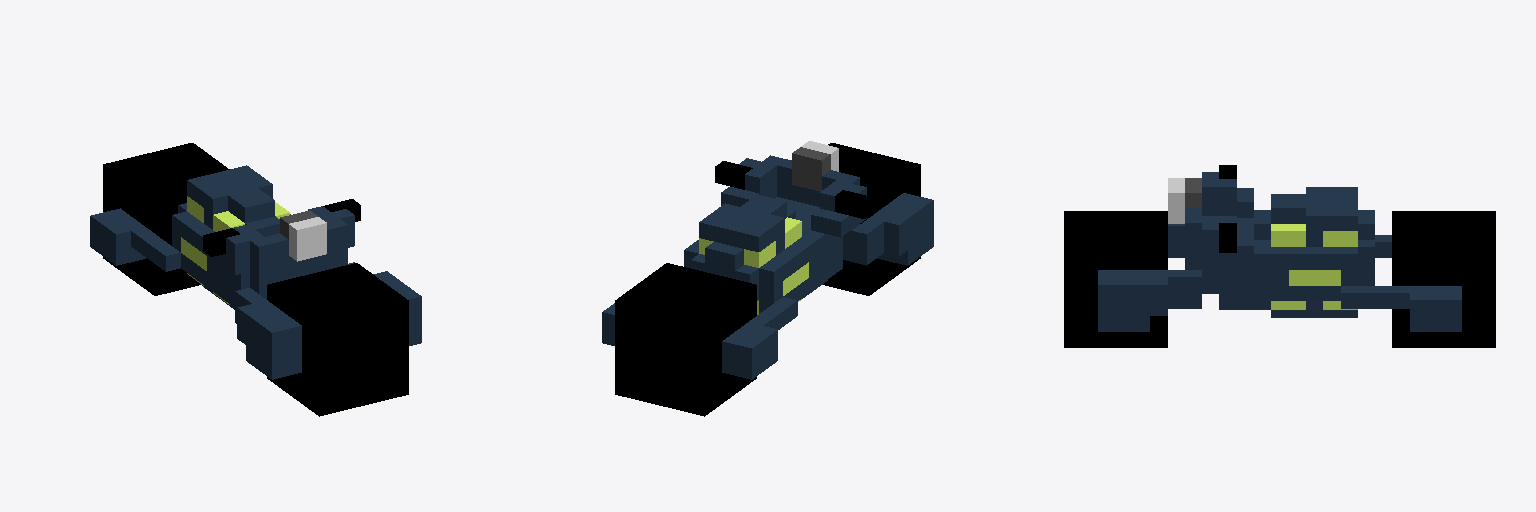
3 views of the same model, side by side, from view 1: azimuth 30°, elevation 25°; view 2: azimuth 150°, elevation 25°; view 3: azimuth 270°, elevation 25° (orthographic).
Visible parts, largest first — view 1: bike_rest_0_42_unit; view 2: bike_rest_0_42_unit; view 3: bike_rest_0_42_unit.
Part boxes in pixels (x1,y1,x2,y2): bike_rest_0_42_unit: (90,143,421,416); bike_rest_0_42_unit: (602,141,933,416); bike_rest_0_42_unit: (1064,165,1495,347).
Bounding box in the file's own units: 10 × 9 × 25.
Materials: 1 (1 with a texture image).